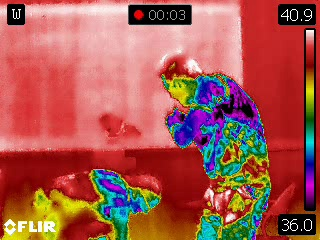human: (157, 50, 273, 240), (29, 167, 162, 240)
